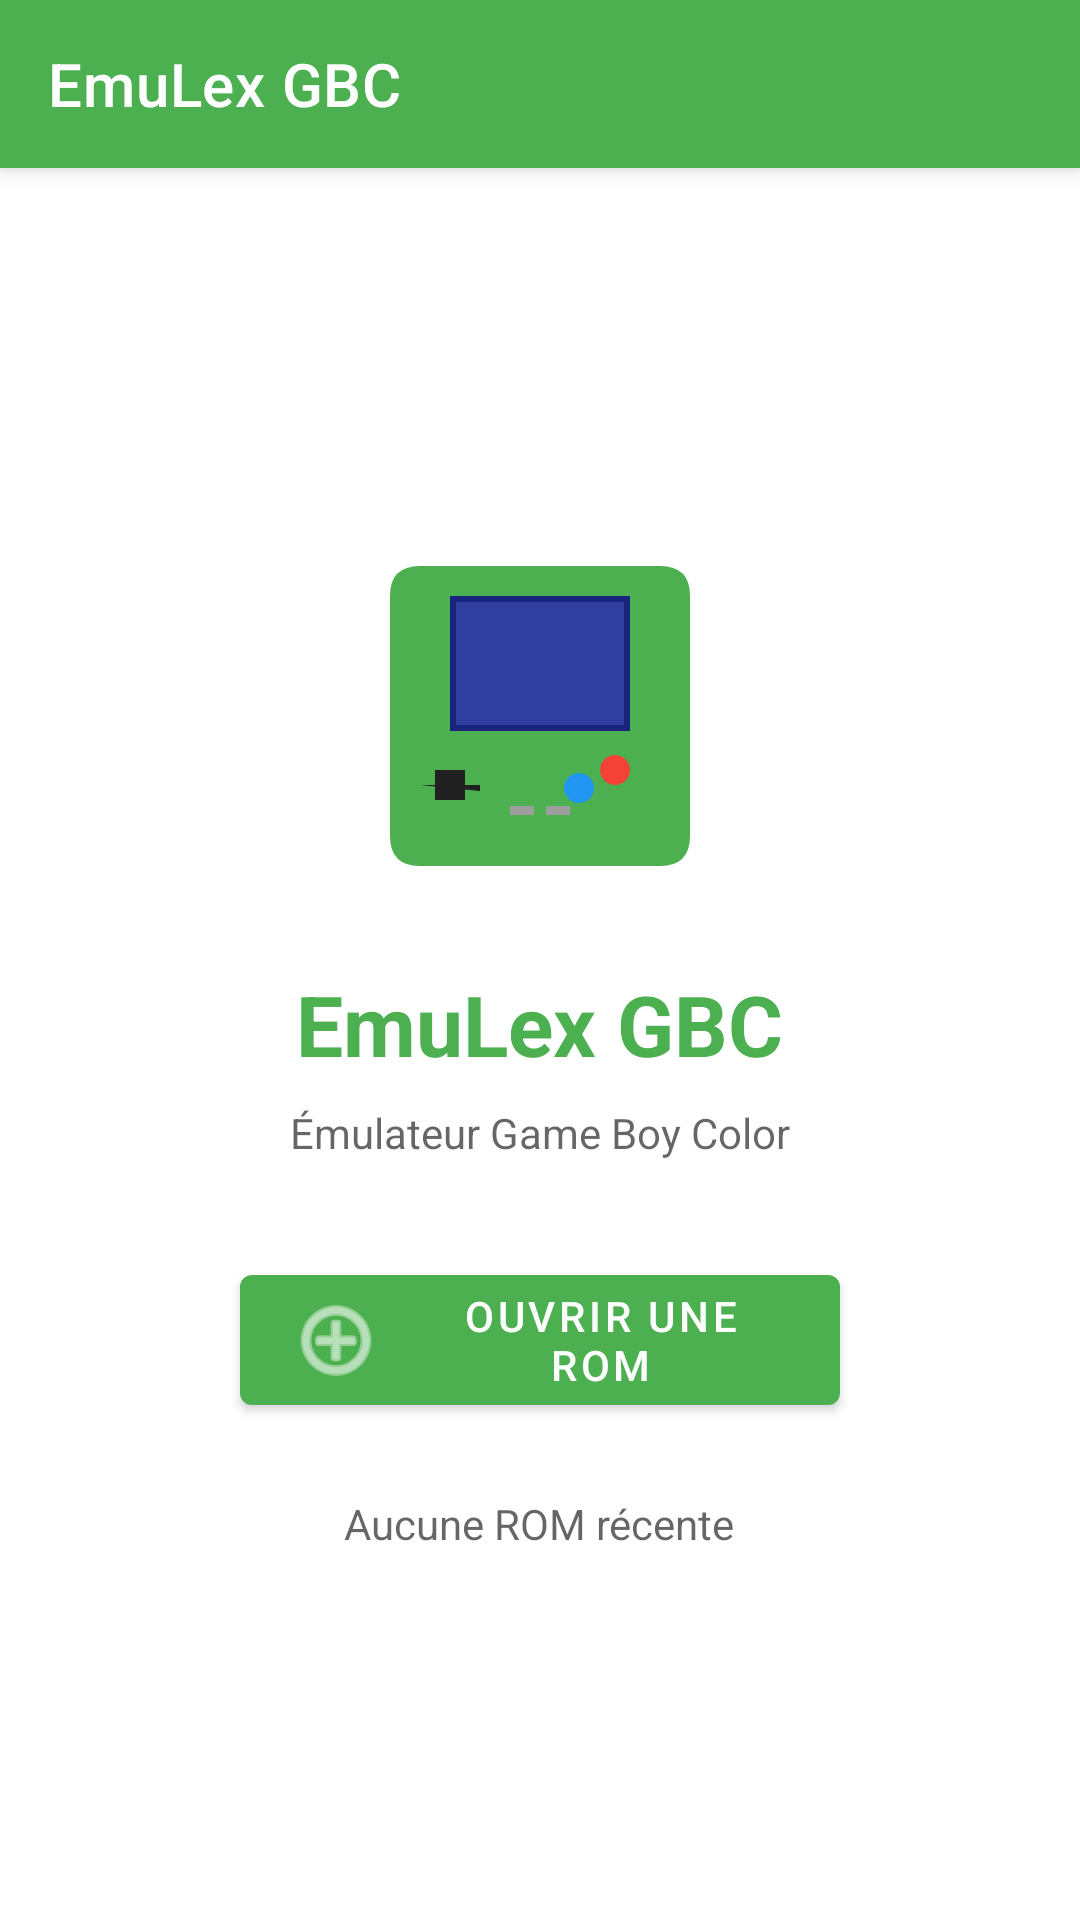

Screen size 1080px x 1920px. Icon name, then its center in pixels as (x,y):
gameboy: (540,716)
